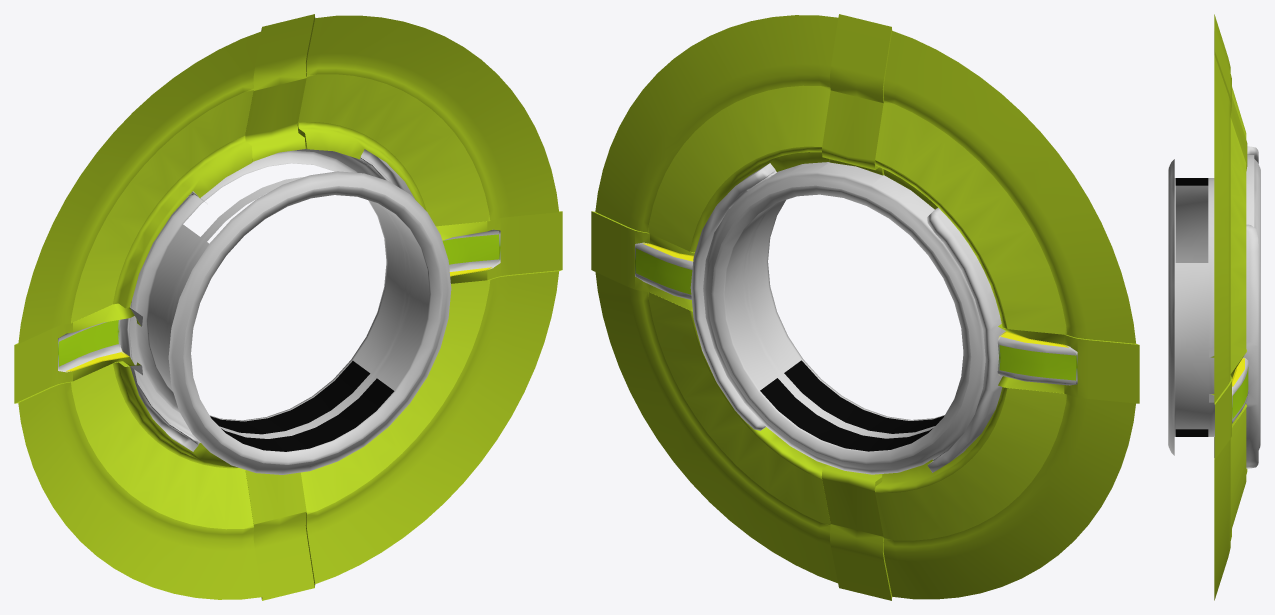
The model's file is part_main-lod0.dae.
3 views of the same model, side by side, from view 1: azimuth 30°, elevation 25°; view 2: azimuth 150°, elevation 25°; view 3: azimuth 270°, elevation 25° (orthographic). The views are drawn at different scales.
Parts seen in each view (by area): view 1: part_main-lod0Xlod0Xp2genericXgen_p2_hulltexture_02_b, part_main-lod0Xlod0Xp2multimatXp2_multimat_01, part_main-lod0Xlod0Xp2genericXgen_p2_hulltexture_02_c; view 2: part_main-lod0Xlod0Xp2genericXgen_p2_hulltexture_02_b, part_main-lod0Xlod0Xp2multimatXp2_multimat_01, part_main-lod0Xlod0Xp2genericXgen_p2_hulltexture_02_c; view 3: part_main-lod0Xlod0Xp2genericXgen_p2_hulltexture_02_b, part_main-lod0Xlod0Xp2multimatXp2_multimat_01, part_main-lod0Xlod0Xp2genericXgen_p2_hulltexture_02_c.
Part boxes in pixels (left/top/right/bottom): part_main-lod0Xlod0Xp2genericXgen_p2_hulltexture_02_b: left=14, top=14, right=562, bottom=600; part_main-lod0Xlod0Xp2multimatXp2_multimat_01: left=59, top=74, right=498, bottom=529; part_main-lod0Xlod0Xp2genericXgen_p2_hulltexture_02_c: left=210, top=361, right=394, bottom=451; part_main-lod0Xlod0Xp2genericXgen_p2_hulltexture_02_b: left=591, top=14, right=1139, bottom=600; part_main-lod0Xlod0Xp2multimatXp2_multimat_01: left=636, top=85, right=1075, bottom=540; part_main-lod0Xlod0Xp2genericXgen_p2_hulltexture_02_c: left=760, top=360, right=943, bottom=451; part_main-lod0Xlod0Xp2genericXgen_p2_hulltexture_02_b: left=1168, top=14, right=1260, bottom=600; part_main-lod0Xlod0Xp2multimatXp2_multimat_01: left=1230, top=87, right=1248, bottom=532; part_main-lod0Xlod0Xp2genericXgen_p2_hulltexture_02_c: left=1175, top=178, right=1208, bottom=436.
Bounding box in the file's own units: 18.08 × 18.08 × 2.83.
